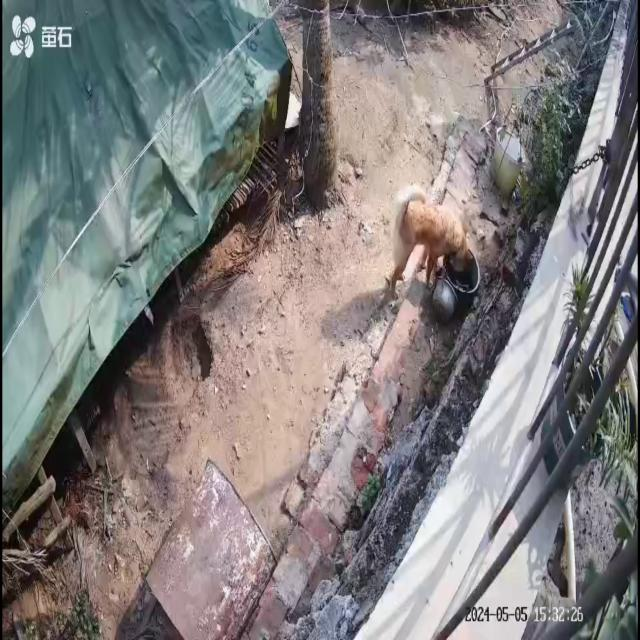dog: (390, 185, 471, 293)
